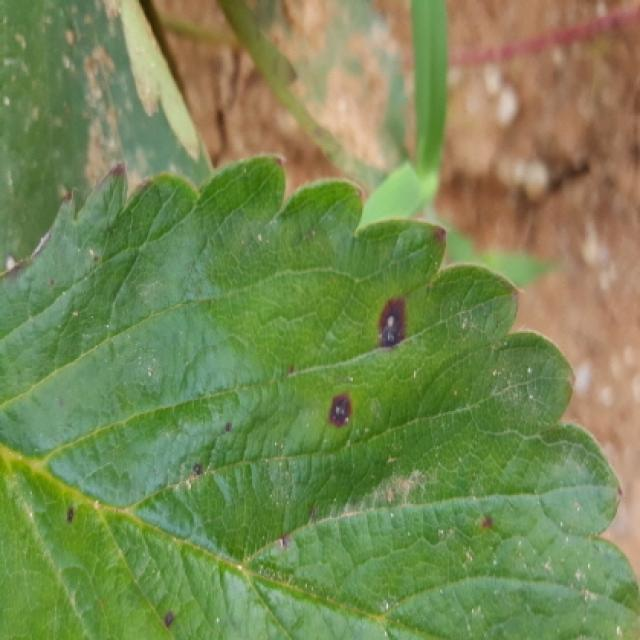Leaf Spot: (0, 155, 638, 638)
